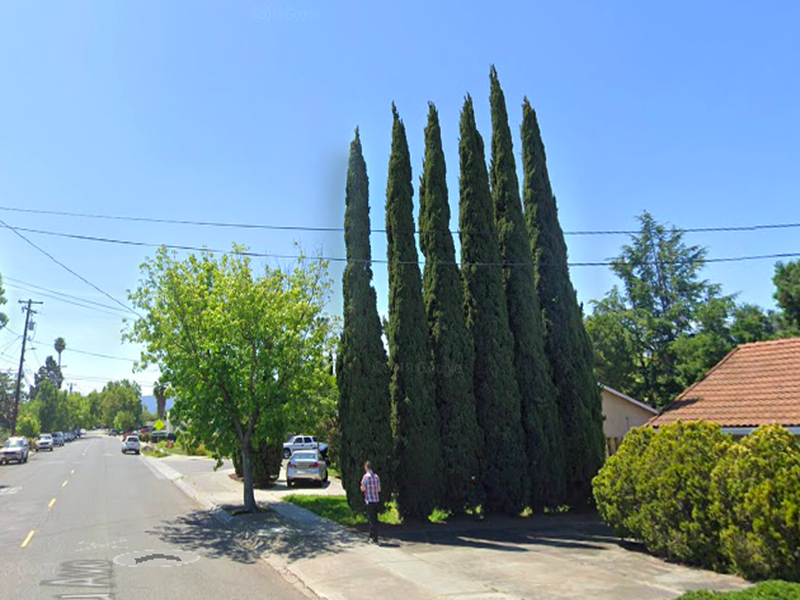tree: (121, 238, 340, 514), (520, 95, 607, 515), (488, 63, 568, 515), (458, 92, 529, 516), (419, 100, 486, 523), (385, 99, 439, 523), (336, 125, 393, 522)
